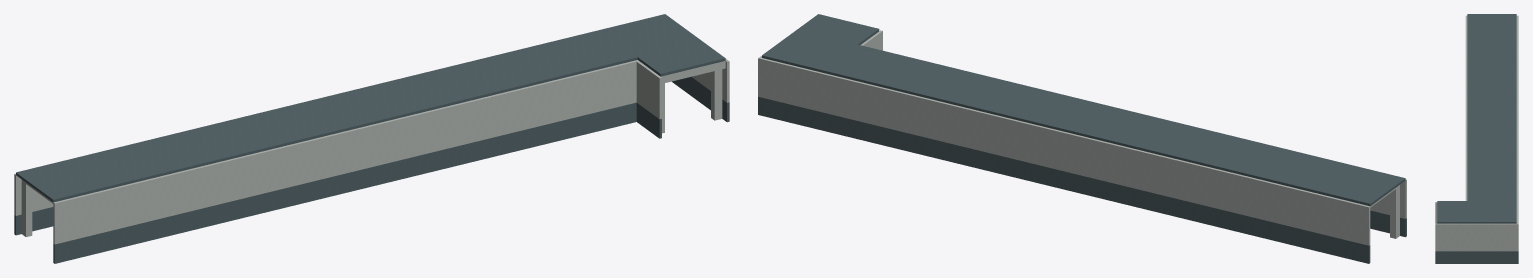
Rendered from AST-STF-G3-053.glb.
3 views of the same model, side by side, from view 1: azimuth 30°, elevation 25°; view 2: azimuth 150°, elevation 25°; view 3: azimuth 270°, elevation 25° (orthographic). The views are drawn at different scales.
Parts seen in each view (by area): view 1: screen_wall_staff_white_paint_-4_-25, screen_wall_staff_white_paint_-3_-25, overhead_staff_bluegrey_paint_-4_-25, overhead_staff_bluegrey_paint_-3_-25, screen_wall_staff_white_paint_-5_-25, overhead_staff_bluegrey_paint_-5_-25, overhead_staff_bluegrey_paint_-2_-25, screen_wall_staff_bluegrey_paint_-3_-25, screen_wall_staff_bluegrey_paint_-4_-25, screen_wall_staff_bluegrey_paint_-5_-25, screen_wall_staff_white_paint_-2_-25, screen_wall_staff_bluegrey_paint_-2_-25 (+3 smaller); view 2: screen_wall_staff_white_paint_-4_-25, screen_wall_staff_white_paint_-3_-25, overhead_staff_bluegrey_paint_-4_-25, overhead_staff_bluegrey_paint_-3_-25, screen_wall_staff_white_paint_-5_-25, overhead_staff_bluegrey_paint_-5_-25, overhead_staff_bluegrey_paint_-2_-25, screen_wall_staff_bluegrey_paint_-4_-25, screen_wall_staff_bluegrey_paint_-3_-25, screen_wall_staff_white_paint_-2_-25, screen_wall_staff_bluegrey_paint_-5_-25, screen_wall_staff_bluegrey_paint_-2_-25 (+1 smaller); view 3: overhead_staff_bluegrey_paint_-4_-25, overhead_staff_bluegrey_paint_-3_-25, screen_wall_staff_white_paint_-2_-25, overhead_staff_bluegrey_paint_-2_-25, overhead_staff_bluegrey_paint_-5_-25, screen_wall_staff_bluegrey_paint_-2_-25, screen_wall_staff_white_paint_-4_-25, screen_wall_staff_white_paint_-3_-25, screen_wall_staff_white_paint_-5_-25.
Boxes of the visible parts, x1,y1,x2,y2 form: screen_wall_staff_white_paint_-4_-25: (183,118,400,212); screen_wall_staff_white_paint_-3_-25: (400,65,617,159); overhead_staff_bluegrey_paint_-4_-25: (146,88,399,170); overhead_staff_bluegrey_paint_-3_-25: (362,35,615,117); screen_wall_staff_white_paint_-5_-25: (14,171,184,244); overhead_staff_bluegrey_paint_-5_-25: (16,140,183,202); overhead_staff_bluegrey_paint_-2_-25: (579,14,725,76); screen_wall_staff_bluegrey_paint_-3_-25: (401,107,617,179); screen_wall_staff_bluegrey_paint_-4_-25: (184,160,400,231); screen_wall_staff_bluegrey_paint_-5_-25: (14,207,184,263); screen_wall_staff_white_paint_-2_-25: (616,59,729,119); screen_wall_staff_bluegrey_paint_-2_-25: (617,77,729,138); screen_wall_staff_white_paint_-4_-25: (1044,127,1247,215); screen_wall_staff_white_paint_-3_-25: (841,77,1045,166); overhead_staff_bluegrey_paint_-4_-25: (1045,99,1283,176); overhead_staff_bluegrey_paint_-3_-25: (843,49,1080,126); screen_wall_staff_white_paint_-5_-25: (1247,176,1406,245); overhead_staff_bluegrey_paint_-5_-25: (1248,148,1405,206); overhead_staff_bluegrey_paint_-2_-25: (762,14,879,77); screen_wall_staff_bluegrey_paint_-4_-25: (1044,166,1247,233); screen_wall_staff_bluegrey_paint_-3_-25: (841,117,1044,184); screen_wall_staff_white_paint_-2_-25: (758,30,882,116); screen_wall_staff_bluegrey_paint_-5_-25: (1247,210,1406,263); screen_wall_staff_bluegrey_paint_-2_-25: (758,96,841,135); overhead_staff_bluegrey_paint_-4_-25: (1467,55,1516,124); overhead_staff_bluegrey_paint_-3_-25: (1467,125,1516,193); screen_wall_staff_white_paint_-2_-25: (1435,196,1518,251); overhead_staff_bluegrey_paint_-2_-25: (1437,194,1516,223); overhead_staff_bluegrey_paint_-5_-25: (1467,14,1516,55); screen_wall_staff_bluegrey_paint_-2_-25: (1435,251,1518,263); screen_wall_staff_white_paint_-4_-25: (1465,57,1518,126); screen_wall_staff_white_paint_-3_-25: (1465,126,1518,195); screen_wall_staff_white_paint_-5_-25: (1465,15,1518,57).
Size of the model in its own units: 36.14 by 3.34 by 6.08.
4 materials, 4 textured.
